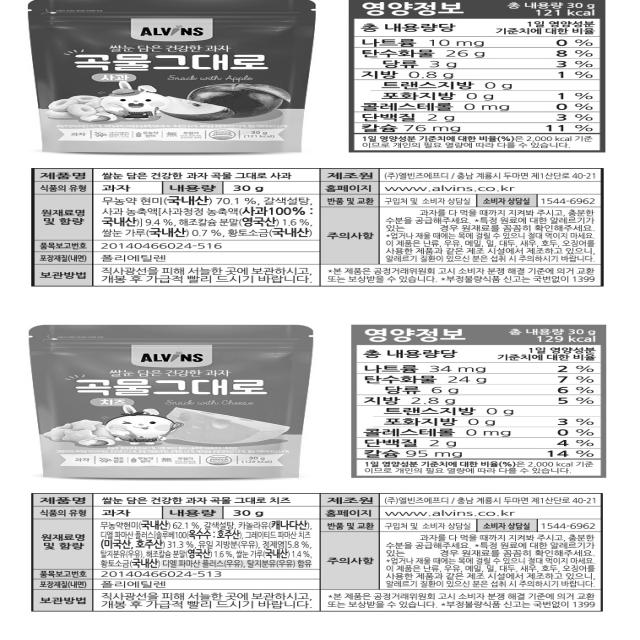Nutrition Label: (336, 318, 619, 481), (344, 0, 625, 161)
